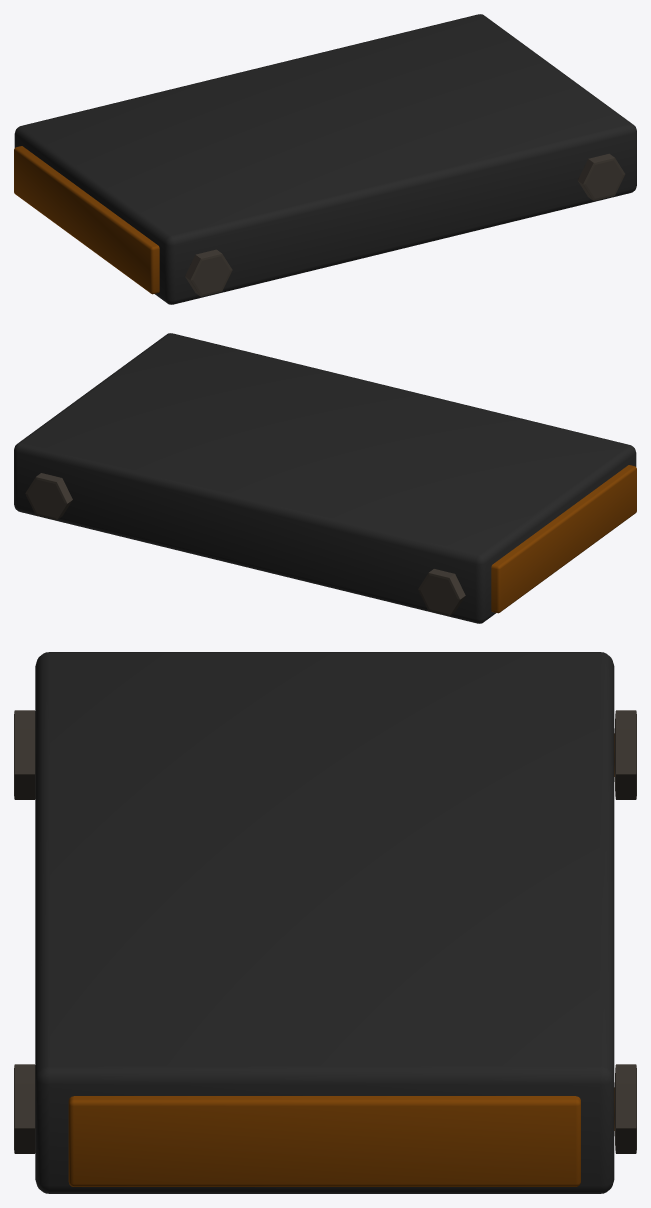
File: Типо что то нужное 2.fbx
3 views of the same model, one above another, from view 1: azimuth 30°, elevation 25°; view 2: azimuth 150°, elevation 25°; view 3: azimuth 270°, elevation 25° (orthographic). The views are drawn at different scales.
Visible parts, largest first — view 1: Cube_9, Cube_10, Типо_что_то_нужное_2; view 2: Cube_9, Cube_10, Типо_что_то_нужное_2; view 3: Cube_9, Cube_10, Типо_что_то_нужное_2.
Part boxes in pixels (box(x1,y1,x2,y2)): Cube_9: box(14, 14, 636, 304); Cube_10: box(14, 146, 159, 294); Типо_что_то_нужное_2: box(185, 153, 625, 296); Cube_9: box(14, 333, 636, 623); Cube_10: box(491, 465, 636, 613); Типо_что_то_нужное_2: box(25, 473, 465, 615); Cube_9: box(35, 652, 614, 1193); Cube_10: box(68, 1096, 580, 1186); Типо_что_то_нужное_2: box(14, 710, 636, 1153).
Size of the model in its own units: 115 by 15.49 by 69.09.
